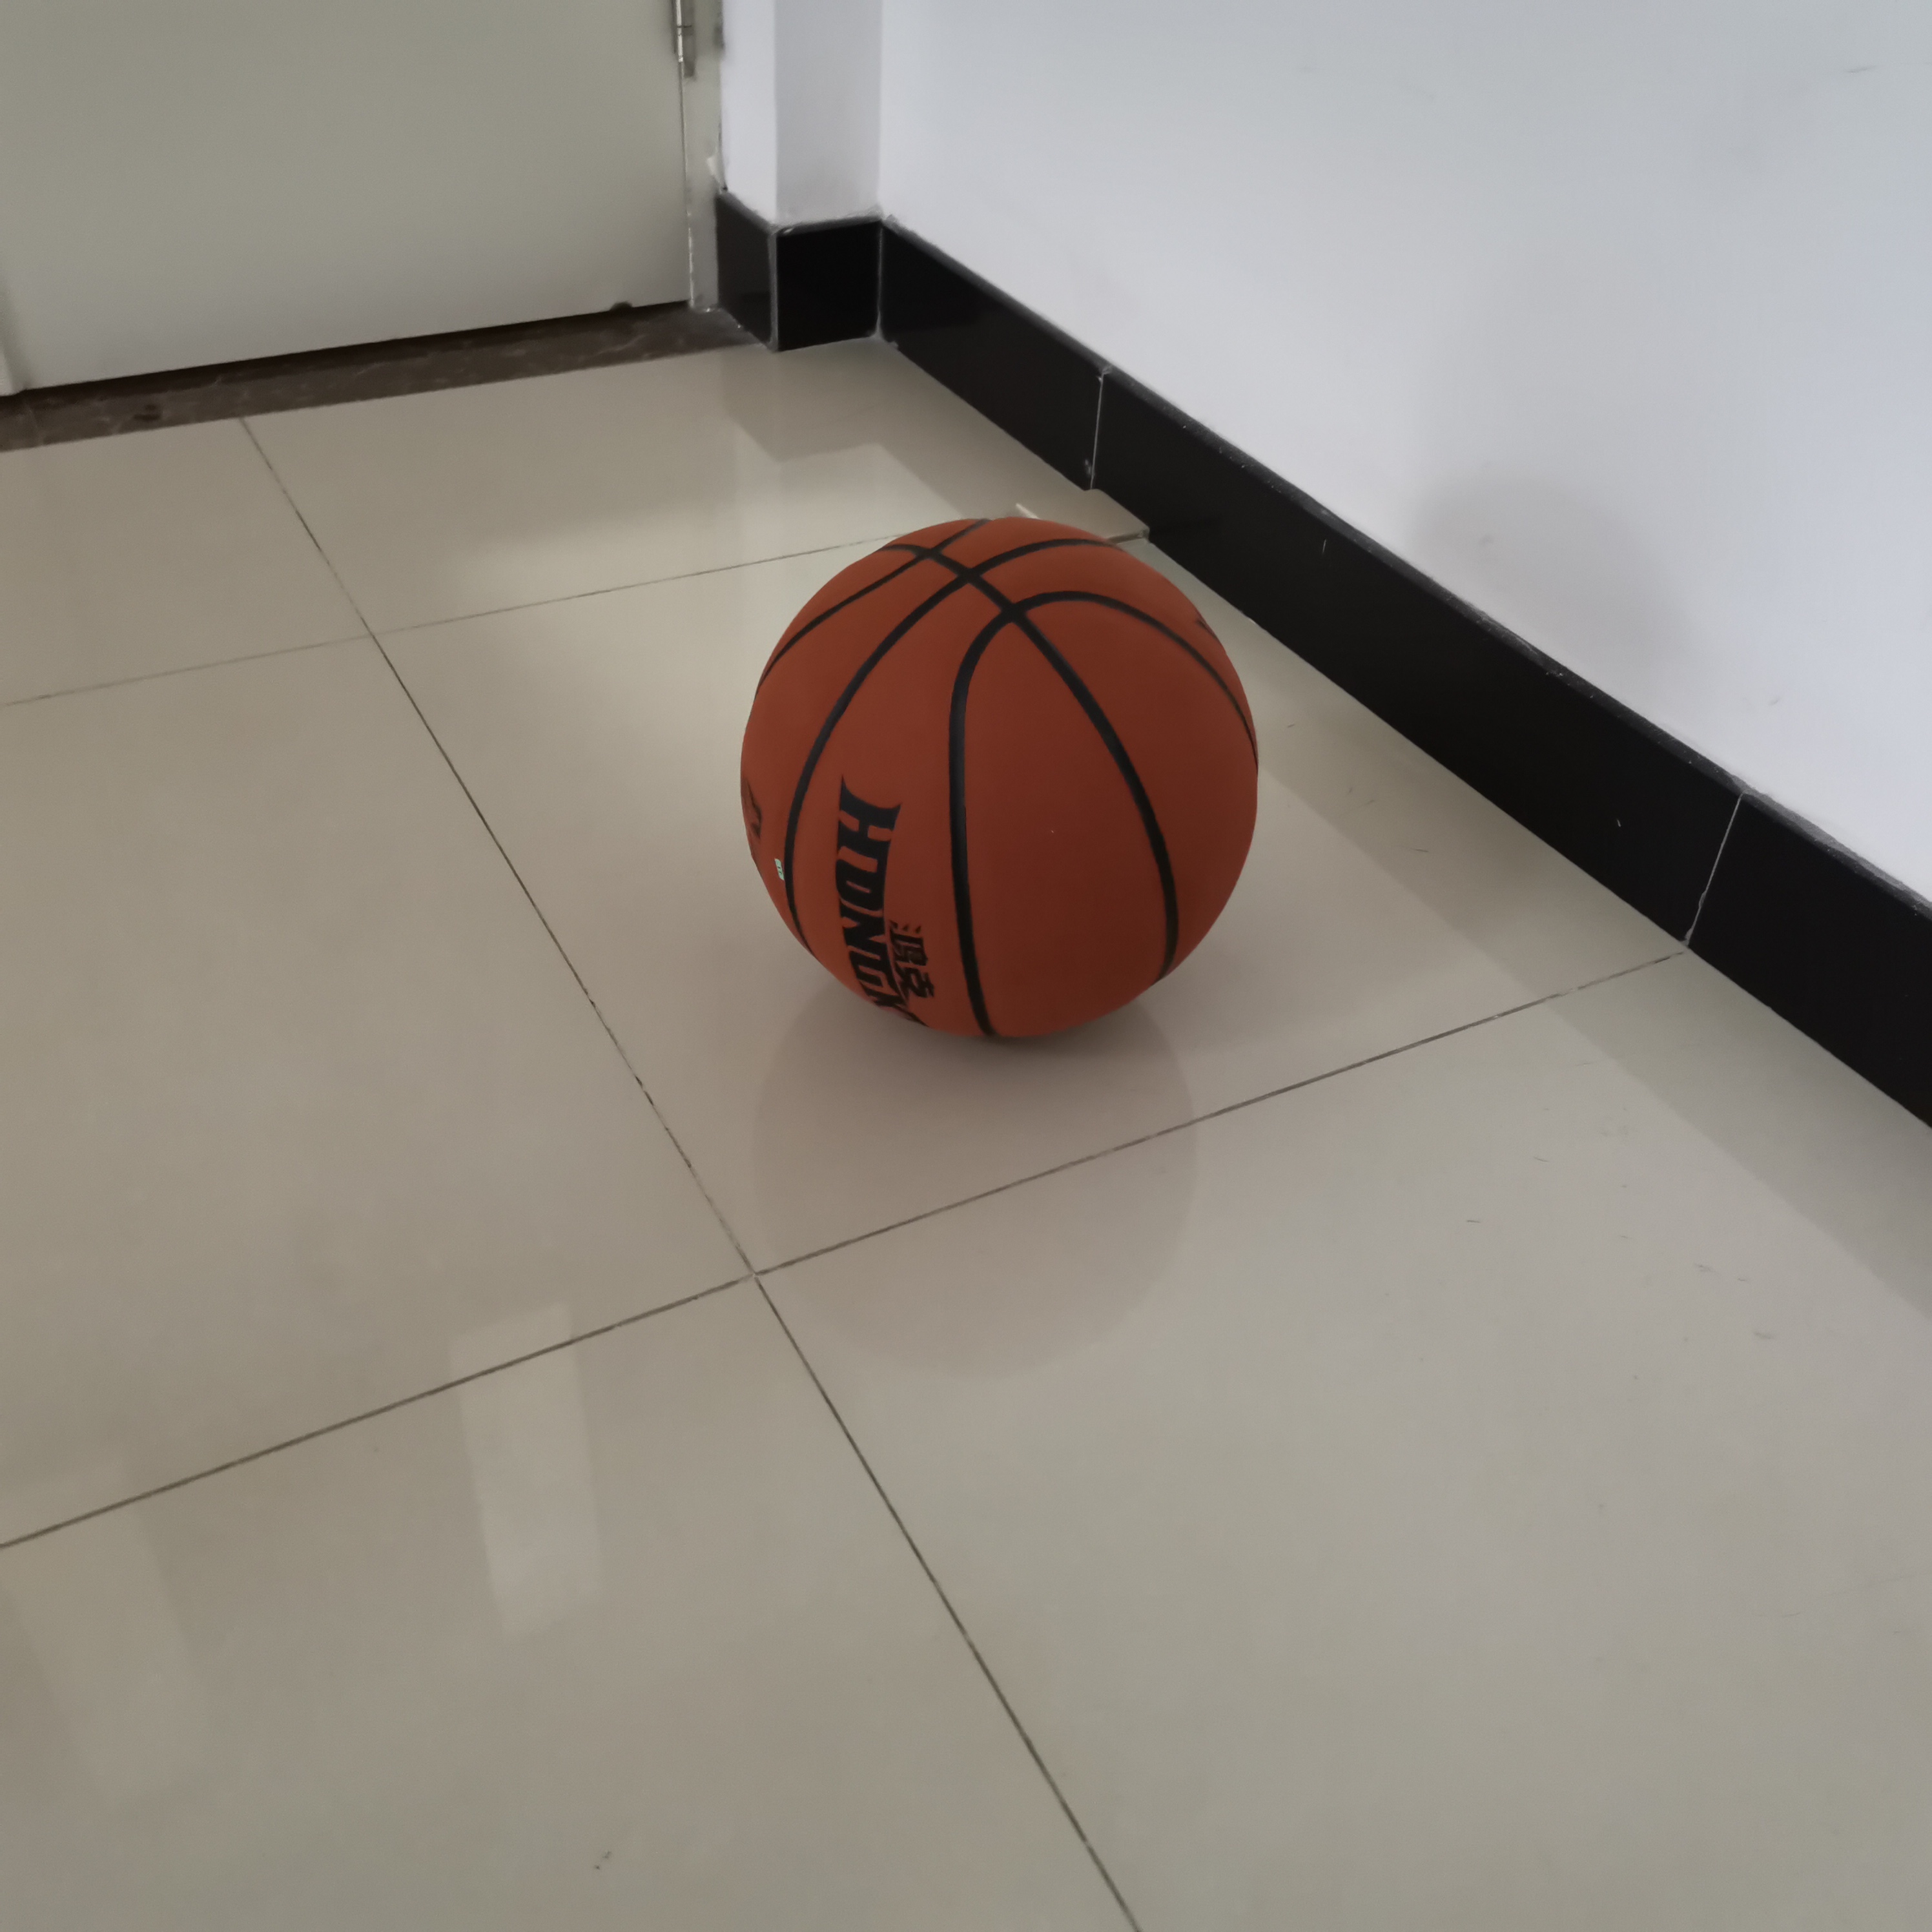basketball: (740, 515, 1258, 1046)
